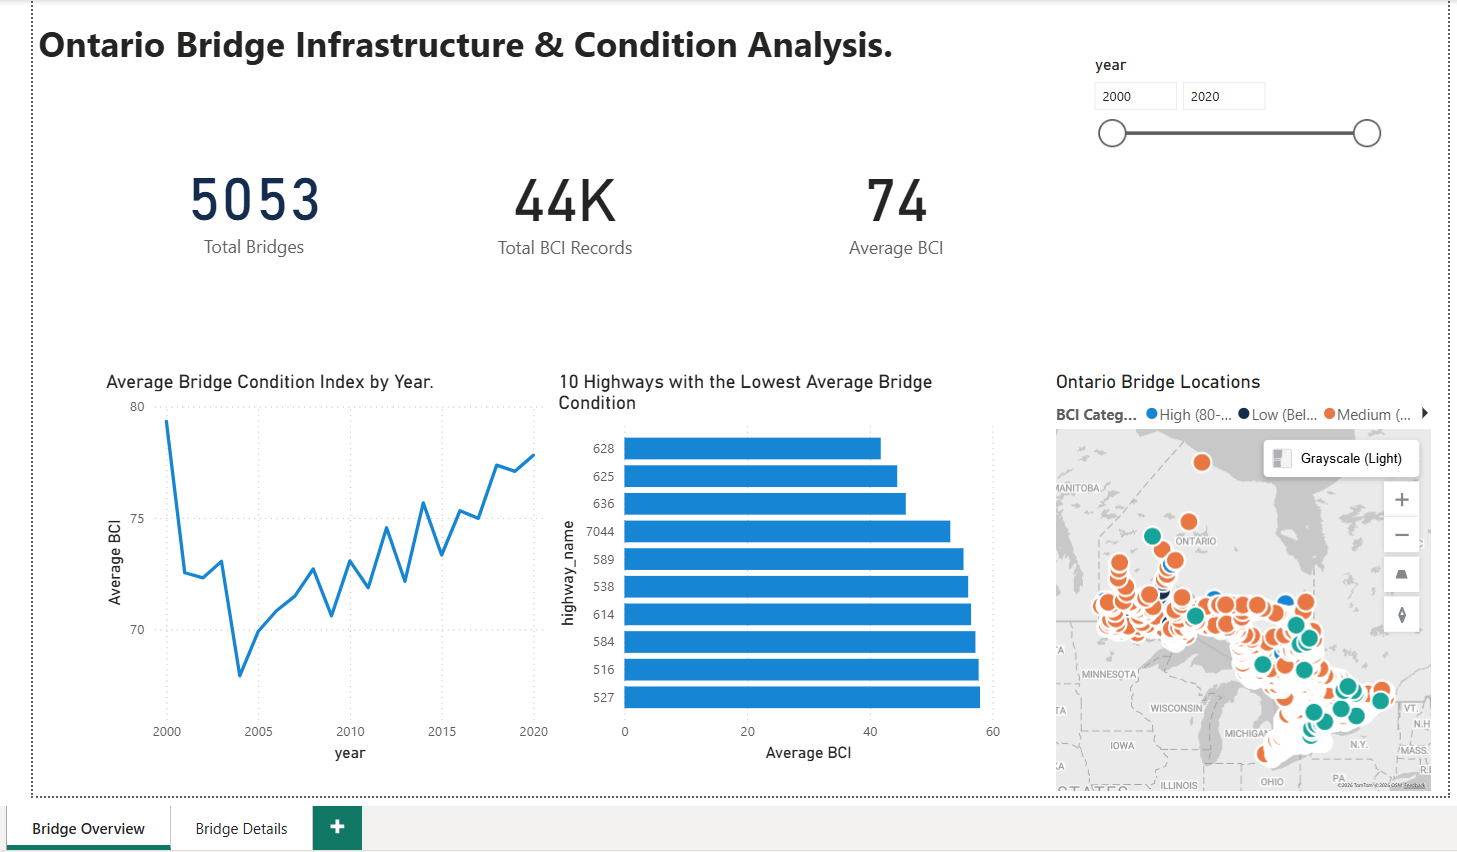

The page's visual inventory and layout, read from the dashboard file:
{"tool":"powerbi","page":{"name":"Bridge Overview","canvas":[1280,720],"ordinal":0},"visuals":[{"type":"card","fields":{"Values":["bridge_detail.Total Bridges"]},"box":[59.7,44.1,280.2,280.2],"z":0},{"type":"card","fields":{"Values":["bridge_detail.Average BCI"]},"box":[640.6,44.7,279.9,279.9],"z":1000},{"type":"card","fields":{"Values":["bridge_detail.Total BCI Records"]},"box":[341.9,44.7,279.9,279.9],"z":2000},{"type":"lineChart","title":"Average Bridge Condition Index by Year.","fields":{"Category":["bridge_detail.year"],"Y":["bridge_detail.Average BCI"]},"box":[60.6,334.7,409.7,359.2],"z":3000},{"type":"clusteredBarChart","title":"10 Highways with the Lowest Average Bridge Condition","fields":{"Category":["bridge_master.highway_name"],"Y":["bridge_detail.Average BCI"]},"box":[470.3,334.7,409.7,359.2],"z":4000},{"type":"slicer","fields":{"Values":["bridge_detail.year"]},"box":[947.9,44.7,279.9,281.3],"z":5000},{"type":"azureMap","title":"Ontario Bridge Locations","fields":{"Y":["bridge_master.latitude"],"X":["bridge_master.longitude"],"Series":["bridge_master.BCI Category"]},"box":[920.4,334.4,348.8,385.9],"z":5001},{"type":"textbox","box":[0,12.8,800.7,61.2],"z":5002}]}

Visuals, with their boxes on the page's 1280x720 design canvas (x1, y1, x2, y2). These are canvas units, not pixel positions in the 1457x852 screenshot, which may show the page scaled, cropped or inside an application window:
card - bridge_detail.Total Bridges: bbox=[60, 44, 340, 324]
card - bridge_detail.Average BCI: bbox=[641, 45, 920, 325]
card - bridge_detail.Total BCI Records: bbox=[342, 45, 622, 325]
"Average Bridge Condition Index by Year." lineChart: bbox=[61, 335, 470, 694]
"10 Highways with the Lowest Average Bridge Condition" clusteredBarChart: bbox=[470, 335, 880, 694]
slicer - bridge_detail.year: bbox=[948, 45, 1228, 326]
"Ontario Bridge Locations" azureMap: bbox=[920, 334, 1269, 720]
textbox: bbox=[0, 13, 801, 74]
